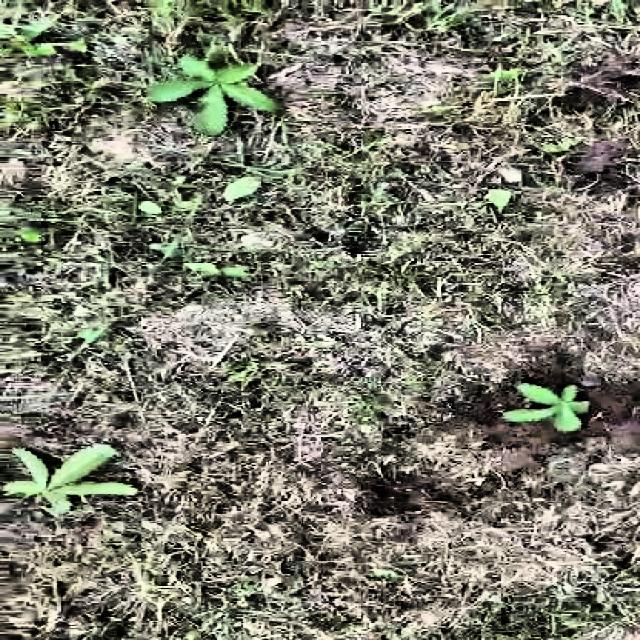Weeds: (149, 52, 283, 142), (0, 445, 137, 517), (501, 377, 594, 435)
